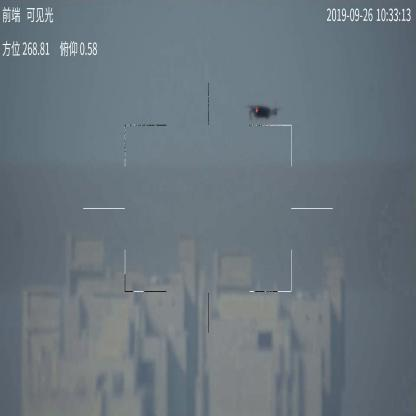uav: (242, 102, 284, 122)
